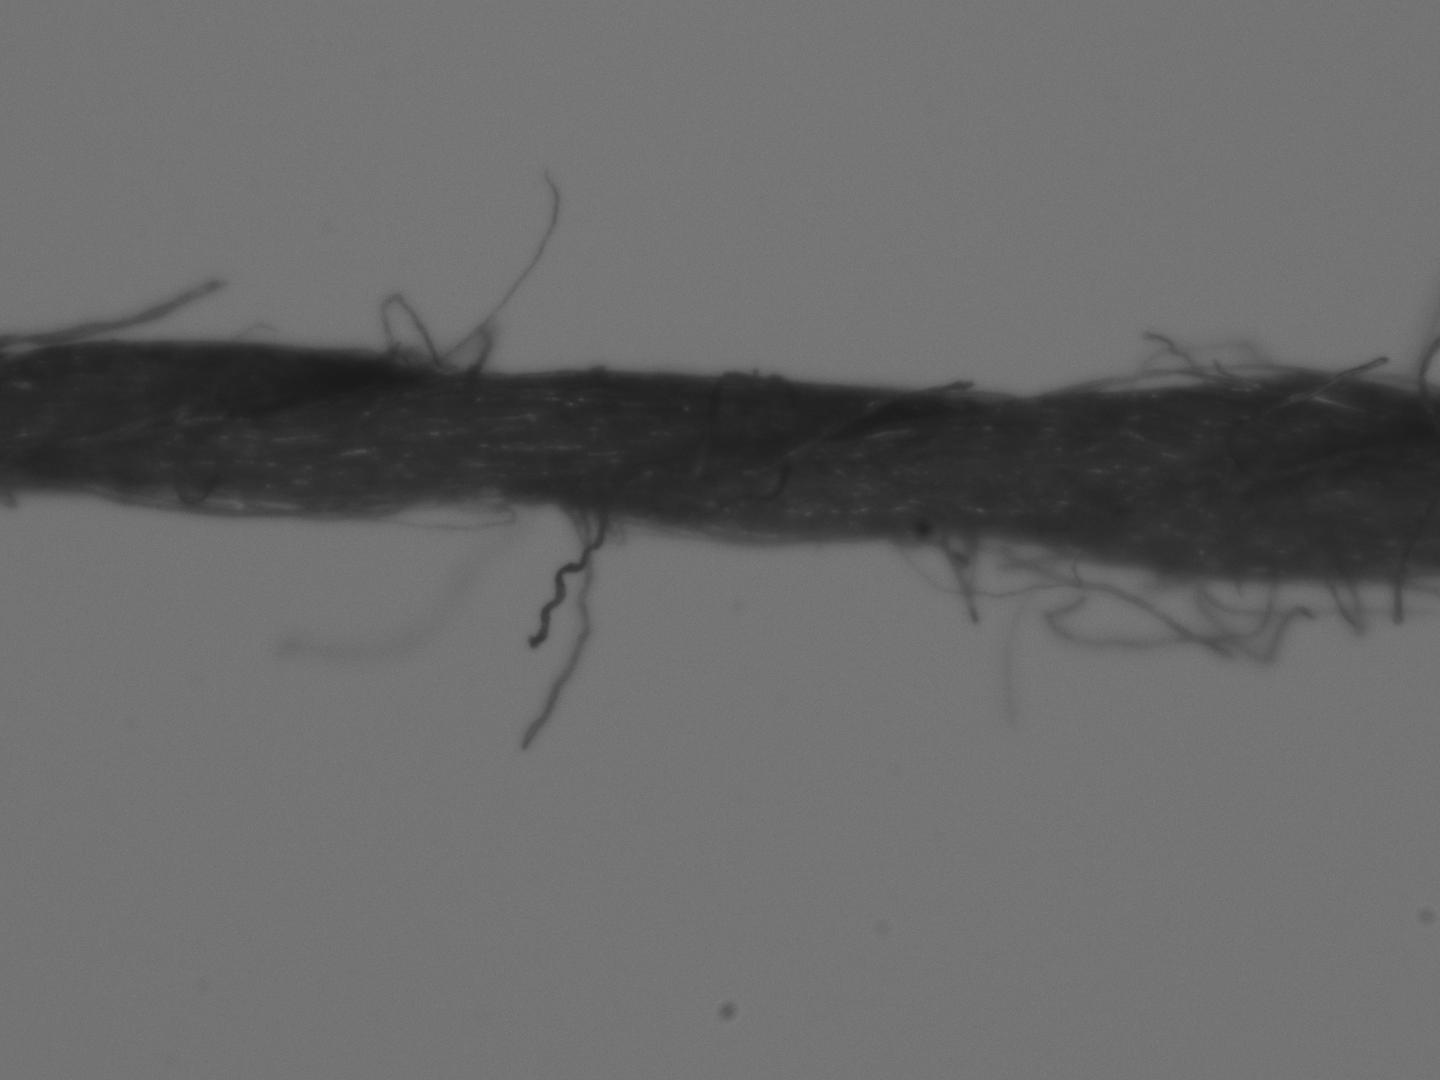loop_fiber: (887, 534, 1438, 675), (1043, 327, 1439, 402), (374, 290, 493, 379), (342, 490, 518, 533)
protruding_fiber: (261, 495, 524, 666), (423, 159, 562, 365), (511, 500, 596, 756), (0, 276, 228, 363), (520, 507, 613, 647), (1001, 543, 1061, 727)
